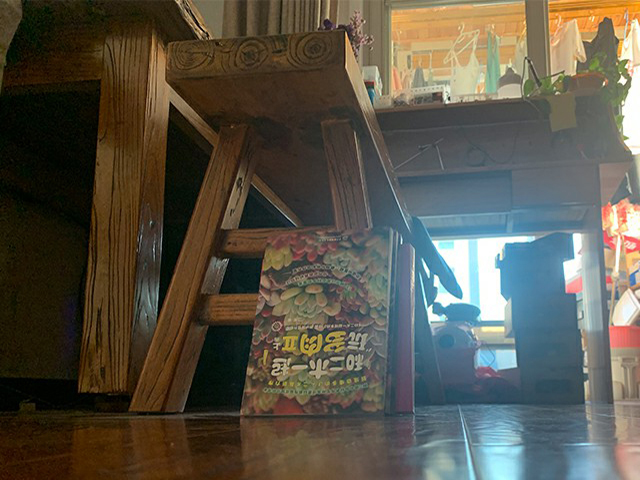book: (238, 227, 416, 418)
stool: (128, 30, 444, 415)
table: (374, 87, 634, 408)
